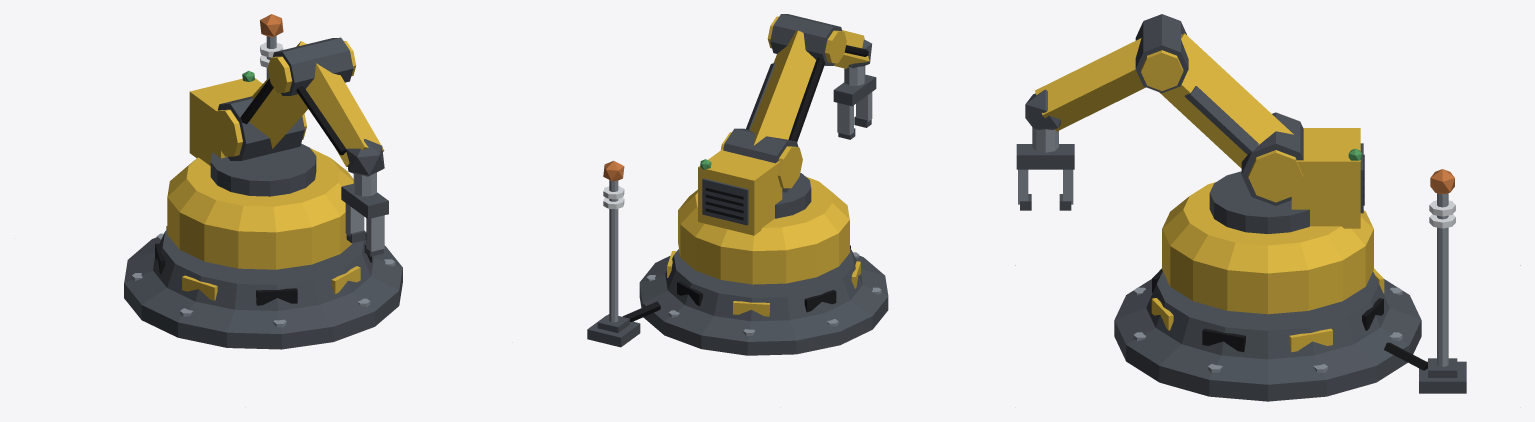
File: bras_t2.glb
3 views of the same model, side by side, from view 1: azimuth 30°, elevation 25°; view 2: azimuth 150°, elevation 25°; view 3: azimuth 270°, elevation 25° (orthographic). The views are drawn at different scales.
Visible parts, largest first — view 1: socle_embase.004, tourelle_corps.004, tourelle_acier_sombre.006, tourelle_jaune.002, tourelle_acier.006, tourelle_noir.006, socle_jaune.004, socle_noir.006, socle_acier.006; view 2: socle_embase.004, tourelle_corps.004, tourelle_jaune.002, tourelle_acier_sombre.006, tourelle_noir.006, socle_acier.006, tourelle_acier.006, socle_acier_sombre.006, socle_noir.006, socle_jaune.004, socle_blanc.004; view 3: socle_embase.004, tourelle_jaune.002, tourelle_corps.004, tourelle_acier_sombre.006, socle_acier.006, socle_noir.006, socle_acier_sombre.006, tourelle_acier.006, socle_jaune.004, socle_blanc.004, socle_cuivre.004.
Boxes of the visible parts, x1,y1,x2,y2 form: socle_embase.004: (124, 229, 402, 349); tourelle_corps.004: (167, 148, 353, 269); tourelle_acier_sombre.006: (210, 37, 388, 256); tourelle_jaune.002: (189, 41, 384, 166); tourelle_acier.006: (345, 172, 384, 251); tourelle_noir.006: (240, 78, 346, 155); socle_jaune.004: (166, 226, 360, 300); socle_noir.006: (155, 232, 371, 305); socle_acier.006: (131, 35, 395, 327); socle_embase.004: (639, 249, 888, 355); tourelle_corps.004: (678, 176, 849, 284); tourelle_jaune.002: (698, 16, 869, 235); tourelle_acier_sombre.006: (702, 14, 876, 225); tourelle_noir.006: (705, 45, 868, 219); socle_acier.006: (609, 180, 881, 335); tourelle_acier.006: (837, 66, 872, 135); socle_acier_sombre.006: (587, 314, 640, 347); socle_noir.006: (622, 245, 850, 322); socle_jaune.004: (667, 251, 860, 316); socle_blanc.004: (603, 186, 624, 209); socle_embase.004: (1114, 271, 1421, 401); tourelle_jaune.002: (1035, 33, 1360, 228); tourelle_corps.004: (1162, 182, 1373, 314); tourelle_acier_sombre.006: (1016, 14, 1363, 233); socle_acier.006: (1133, 193, 1448, 372); socle_noir.006: (1152, 268, 1427, 370); socle_acier_sombre.006: (1419, 358, 1466, 393); tourelle_acier.006: (1018, 127, 1073, 204); socle_jaune.004: (1151, 268, 1384, 352); socle_blanc.004: (1429, 200, 1455, 228); socle_cuivre.004: (1430, 169, 1454, 193).
Bounding box in the file's own units: 1 × 1 × 1.5.
